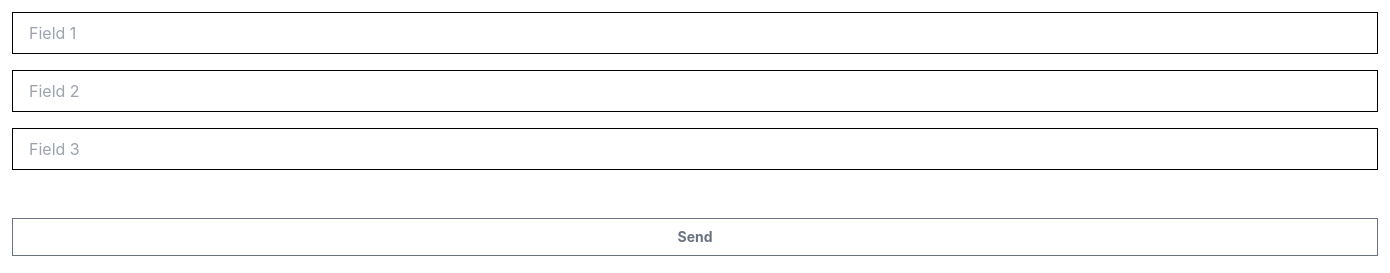
it: <Form /> › should display submitting text
The image size is (1390, 273).
Click the button at (695, 237), box [12,218,1378,256]
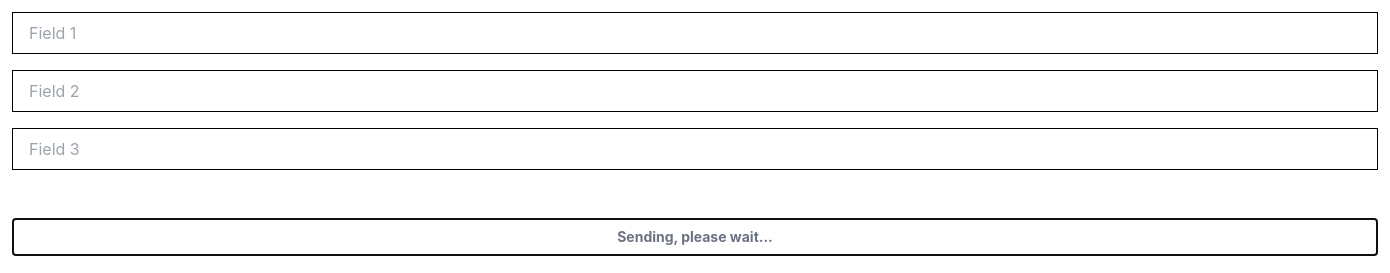
expect the button "Sending, please wait..." is shown: met, box [12,218,1378,256]
